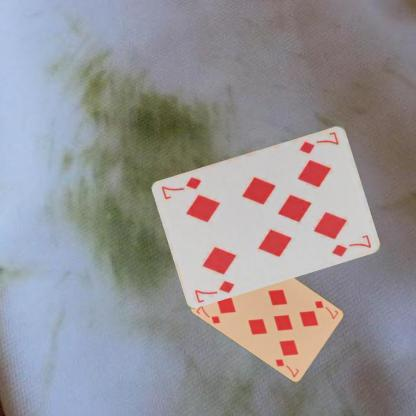7d: (192, 278, 236, 304), (297, 129, 340, 155), (193, 302, 222, 325), (312, 298, 340, 321)
